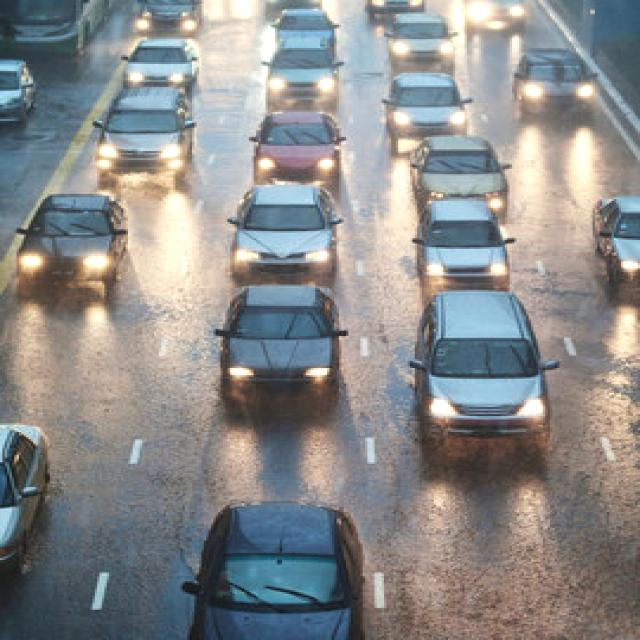Vehicle: (167, 498, 374, 640), (416, 279, 549, 466), (212, 277, 357, 404), (15, 188, 156, 301), (215, 175, 358, 265), (79, 95, 199, 166), (408, 198, 524, 270), (511, 46, 595, 125), (246, 110, 345, 174), (240, 45, 342, 104), (380, 64, 460, 130), (419, 134, 504, 194), (116, 32, 213, 82), (383, 11, 449, 59), (261, 4, 338, 42)
